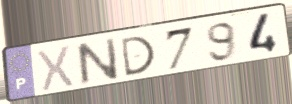4: (245, 11, 283, 58)
7: (161, 25, 198, 72)
9: (204, 20, 239, 62)
D: (119, 34, 158, 79)
N: (73, 35, 121, 88)
X: (35, 43, 76, 94)
